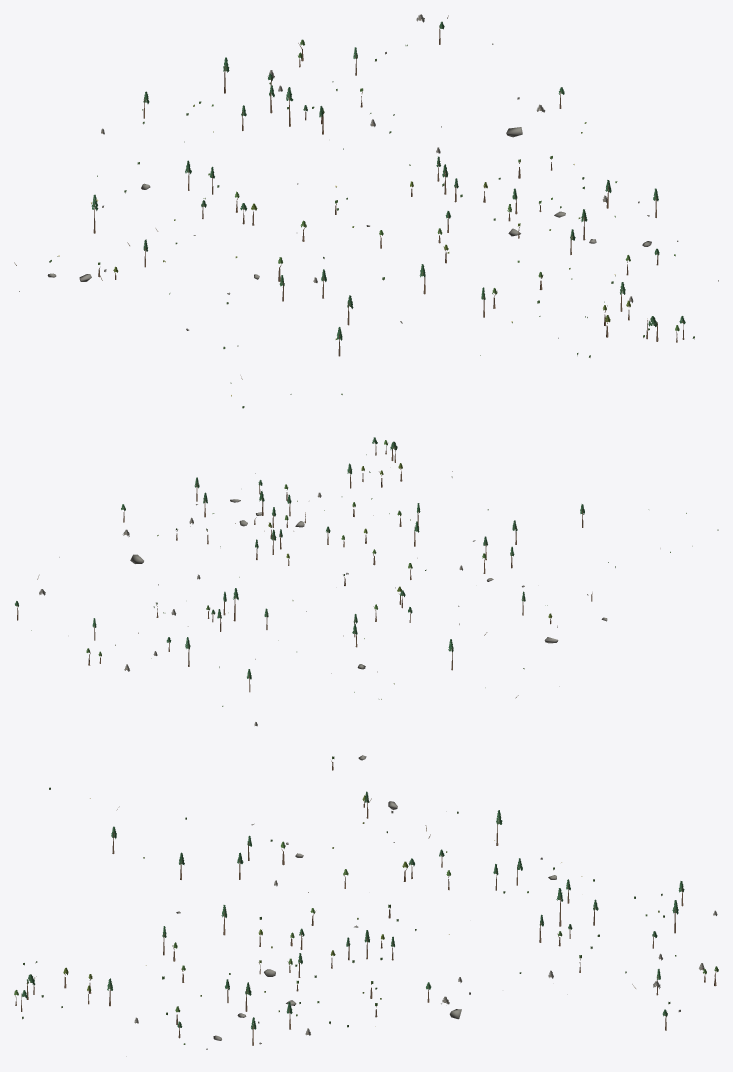
The model's file is arch_land_scatter_c17_18_lod1.glb.
The picture shows the model from 3 angles, top to bottom: view 1: azimuth 30°, elevation 25°; view 2: azimuth 150°, elevation 25°; view 3: azimuth 270°, elevation 25°; orthographic projection. The views are drawn at different scales.
Visible parts, largest first — view 1: arch_land_scatter_c17_18_lod1; view 2: arch_land_scatter_c17_18_lod1; view 3: arch_land_scatter_c17_18_lod1.
Boxes of the visible parts, bbox=[...] form: arch_land_scatter_c17_18_lod1: bbox=[14, 14, 718, 408]; arch_land_scatter_c17_18_lod1: bbox=[15, 437, 718, 726]; arch_land_scatter_c17_18_lod1: bbox=[14, 755, 718, 1056].
Bounding box in the file's own units: 220 × 31.87 × 253.
